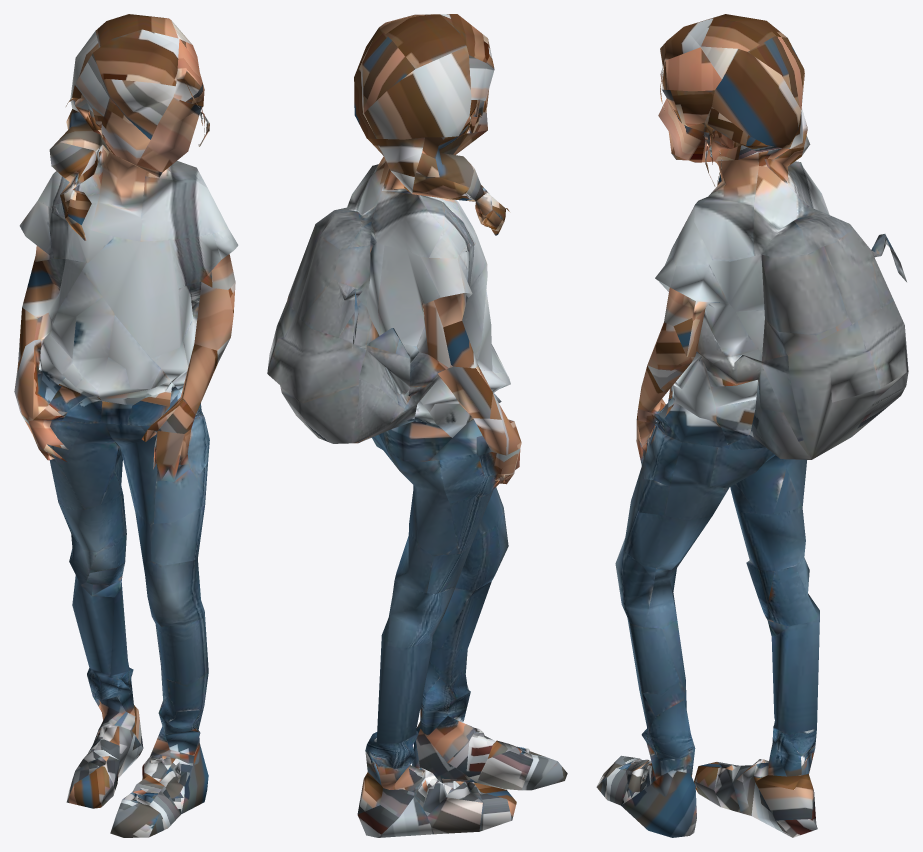
Rendered from passenger-young-female.glb.
The picture shows the model from 3 angles, left to right: view 1: azimuth 30°, elevation 25°; view 2: azimuth 150°, elevation 25°; view 3: azimuth 270°, elevation 25°; orthographic projection. The views are drawn at different scales.
Visible parts, largest first — view 1: mesh_node; view 2: mesh_node; view 3: mesh_node.
Boxes of the visible parts, x1,y1,x2,y2 form: mesh_node: [14, 14, 238, 837]; mesh_node: [267, 14, 567, 837]; mesh_node: [596, 14, 908, 837].
Bounding box in the file's own units: 0.5299 × 1.9 × 0.6674.
1 material, 1 textured.
